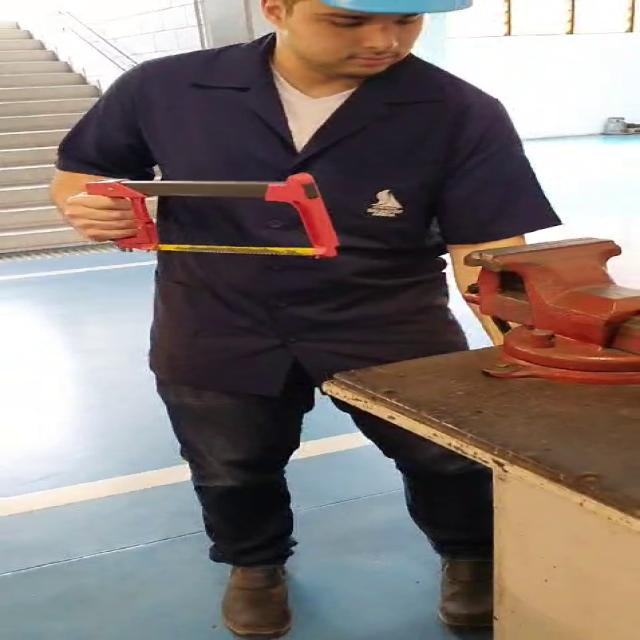sem_oculos: (279, 8, 438, 40)
